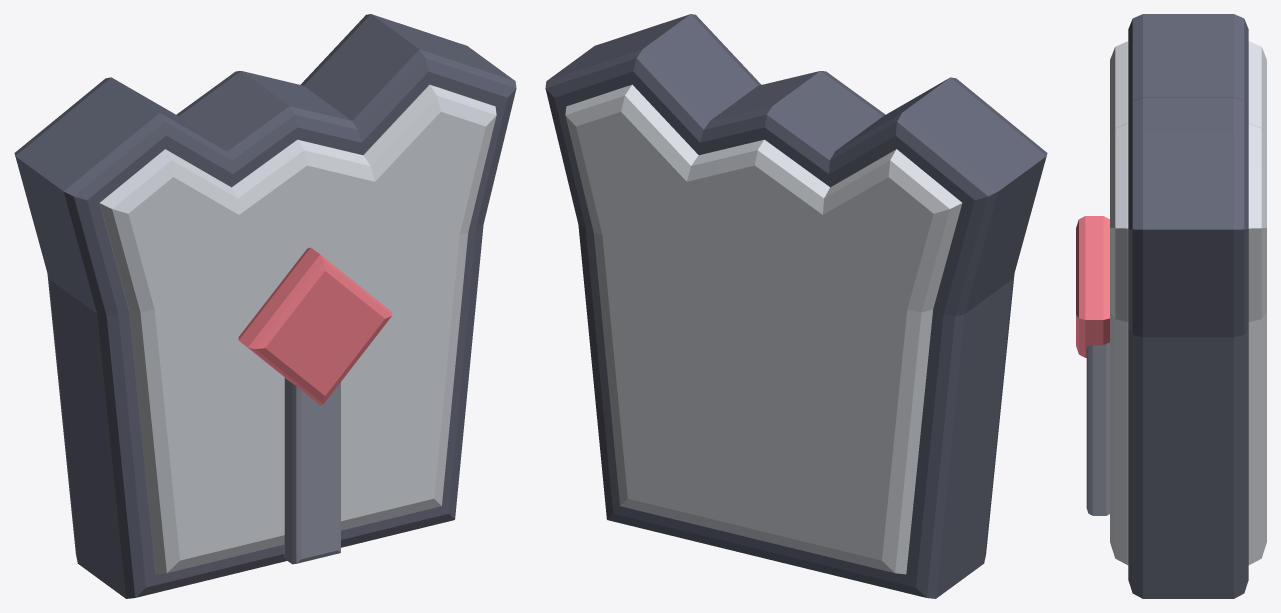
The model's file is game-ui-icon-library-armour-vest-3e480c4d__18995.glb.
3 renders of one model, left to right at view 1: azimuth 30°, elevation 25°; view 2: azimuth 150°, elevation 25°; view 3: azimuth 270°, elevation 25°, orthographic. The views are drawn at different scales.
Parts seen in each view (by area): view 1: armour-vest; view 2: armour-vest; view 3: armour-vest.
Part boxes in pixels (x1=…): armour-vest: x1=14, y1=14, x2=516, y2=598; armour-vest: x1=545, y1=14, x2=1047, y2=598; armour-vest: x1=1076, y1=14, x2=1266, y2=598.
Bounding box in the file's own units: 0.9301 × 0.94 × 0.3611.
